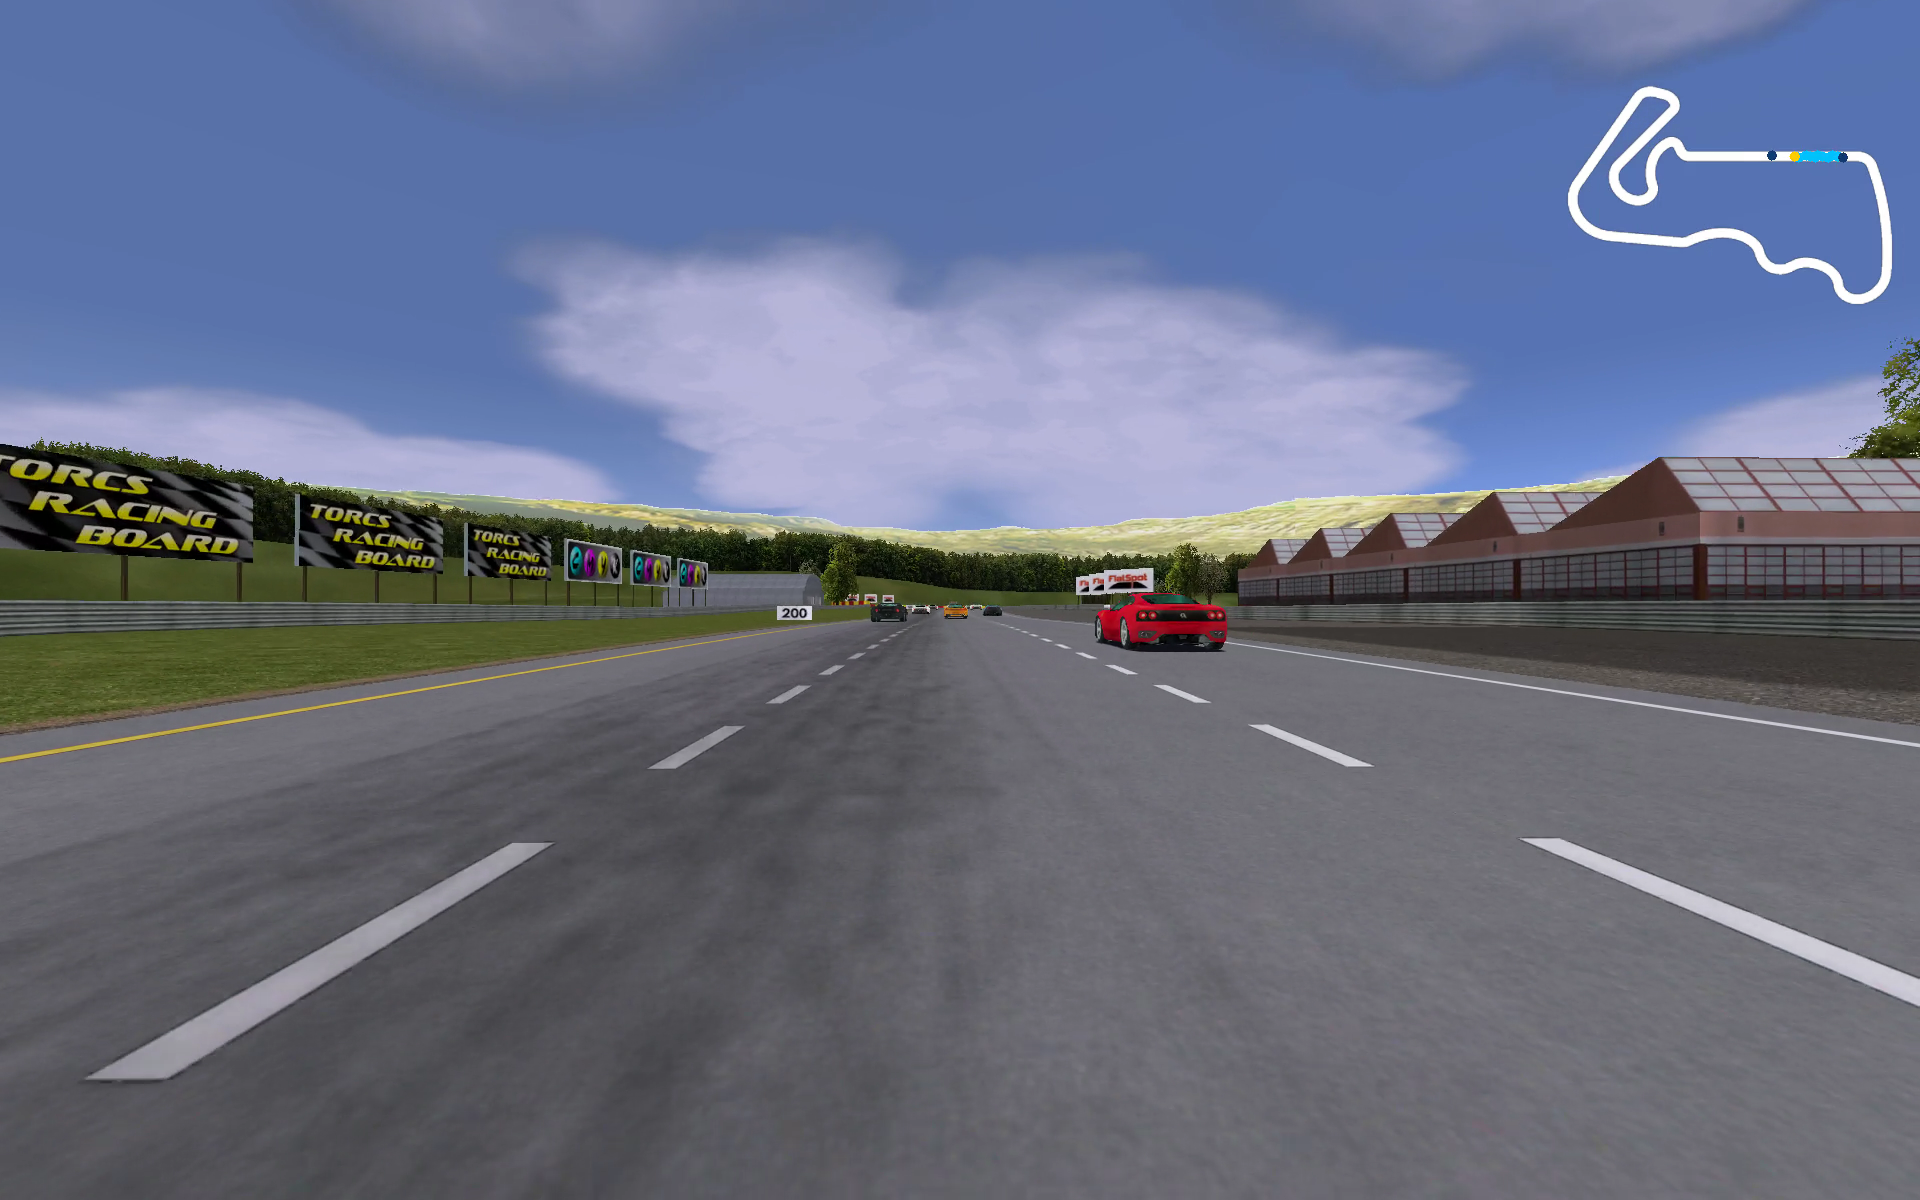car: (1093, 586, 1232, 653), (867, 594, 910, 628), (940, 600, 968, 624), (981, 603, 1006, 617), (912, 600, 930, 618)
